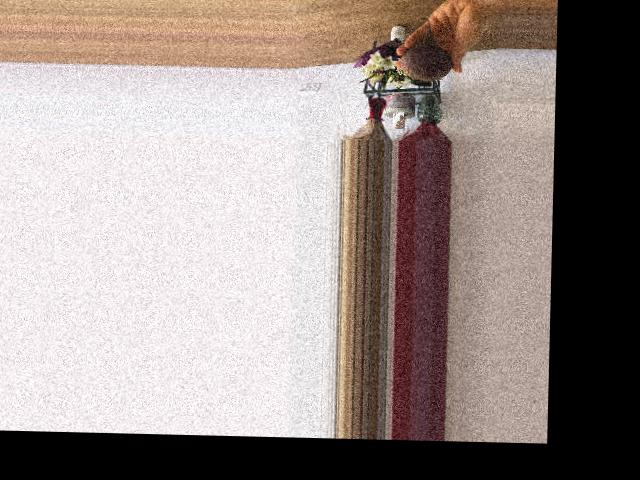beet: (399, 16, 452, 87)
